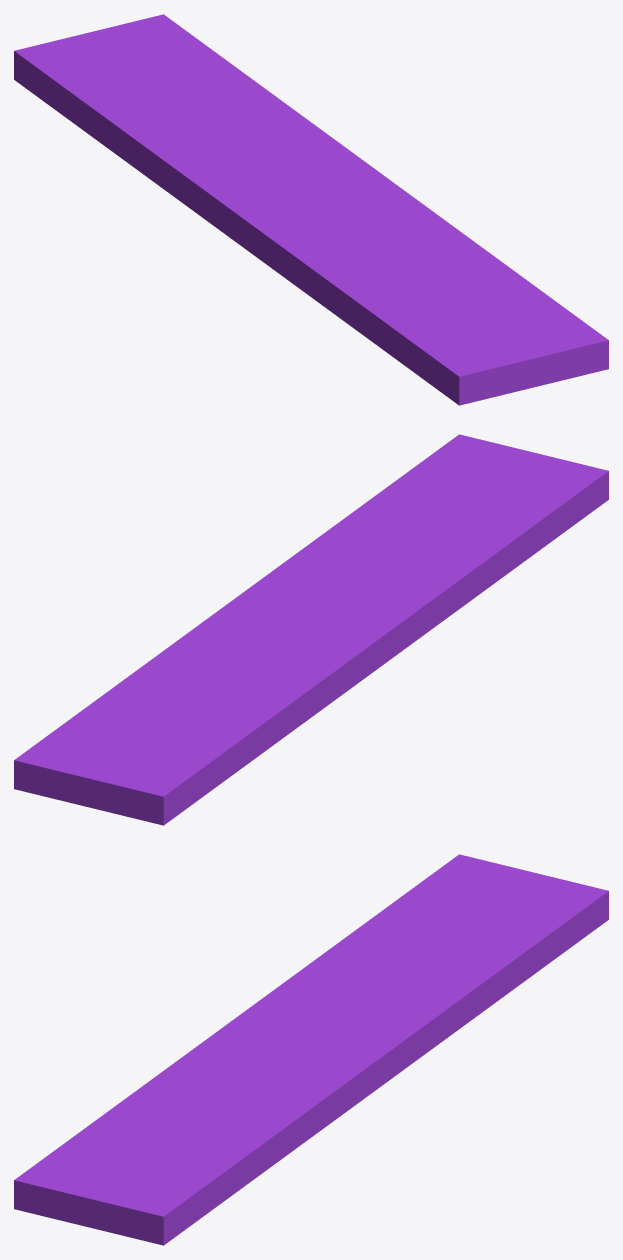
File: StairsStep_81_chunks.fbx
The picture shows the model from 3 angles, top to bottom: view 1: azimuth 30°, elevation 25°; view 2: azimuth 150°, elevation 25°; view 3: azimuth 330°, elevation 25°; orthographic projection.
Parts seen in each view (by area): view 1: StairsStep_81_1, StairsStep_81_3, StairsStep_81_0, StairsStep_81_2; view 2: StairsStep_81_3, StairsStep_81_1, StairsStep_81_0, StairsStep_81_2; view 3: StairsStep_81_1, StairsStep_81_3, StairsStep_81_0, StairsStep_81_2.
Boxes of the visible parts, x1,y1,x2,y2 form: StairsStep_81_1: (288,182,608,405); StairsStep_81_3: (14,14,392,190); StairsStep_81_0: (121,133,300,281); StairsStep_81_2: (269,182,341,218); StairsStep_81_3: (14,592,304,825); StairsStep_81_1: (244,434,608,622); StairsStep_81_0: (271,596,439,746); StairsStep_81_2: (286,606,364,637); StairsStep_81_1: (14,1043,379,1245); StairsStep_81_3: (318,854,608,1087); StairsStep_81_0: (186,936,347,1054); StairsStep_81_2: (258,1013,336,1044).
Bounding box in the file's own units: 157 × 28.98 × 810.
